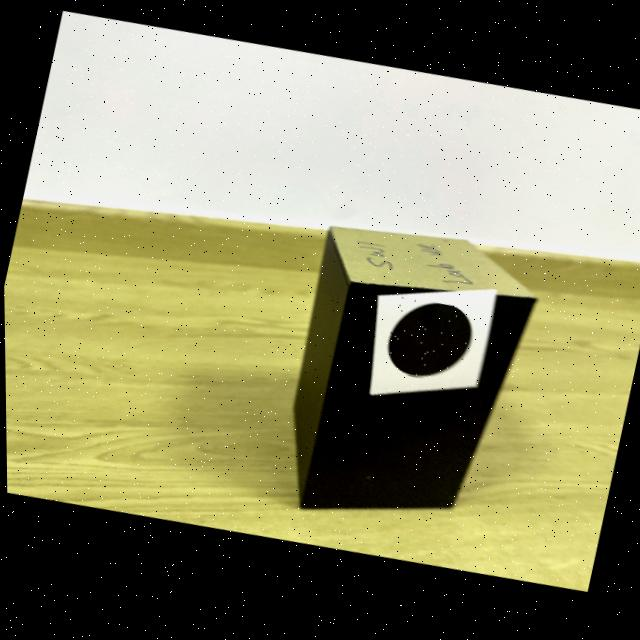CIRCLE: (387, 309, 470, 382)
